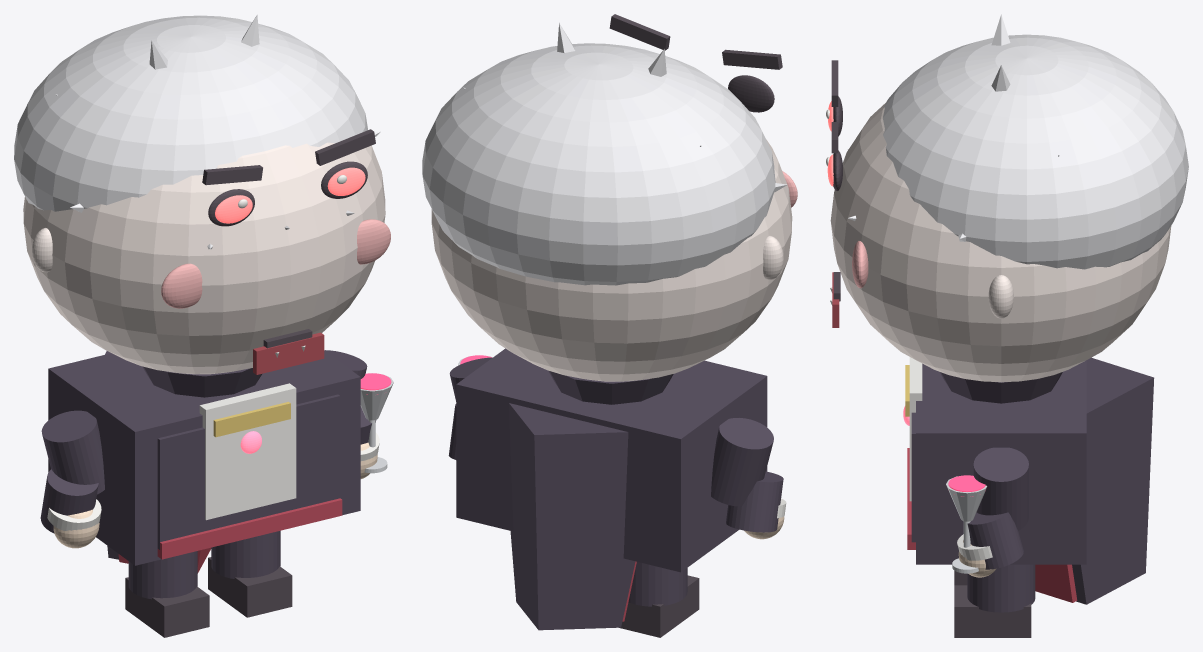
File: vampire.glb
3 views of the same model, side by side, from view 1: azimuth 30°, elevation 25°; view 2: azimuth 150°, elevation 25°; view 3: azimuth 270°, elevation 25° (orthographic).
Parts seen in each view (by area): view 1: Head, HairCap, Coat, CoatFront, ShirtFront, UpperArm_L, CoatTrim, Shoe_R, Shoe_L, Leg_L, Leg_R, Collar (+15 smaller); view 2: HairCap, Coat, Head, Cape, UpperArm_L, Collar, Forearm_L, Shoe_L, Leg_L, EyeSocket_L, Brow_R, Brow_L (+2 smaller); view 3: HairCap, Head, Coat, Cape, UpperArm_R, Leg_R, Shoe_R, Forearm_R, Collar, CapeLining, ShirtFront, Ear_R (+3 smaller).
Boxes of the visible parts, box(x1,y1,x2,y2) form: Head: box(23, 142, 385, 374); HairCap: box(14, 15, 367, 211); Coat: box(48, 351, 360, 565); CoatFront: box(157, 394, 340, 549); ShirtFront: box(199, 383, 296, 520); UpperArm_L: box(41, 410, 104, 494); CoatTrim: box(157, 498, 342, 559); Shoe_R: box(208, 557, 292, 617); Shoe_L: box(125, 577, 209, 637); Leg_L: box(128, 551, 197, 599); Leg_R: box(211, 530, 280, 578); Collar: box(142, 366, 261, 397); HairCap: box(422, 43, 775, 285); Coat: box(456, 348, 767, 572); Head: box(431, 139, 792, 381); Cape: box(509, 403, 635, 630); UpperArm_L: box(711, 418, 773, 506); Collar: box(548, 370, 673, 404); Forearm_L: box(726, 471, 783, 532); Shoe_L: box(619, 575, 699, 637); Leg_L: box(628, 562, 687, 606); EyeSocket_L: box(728, 75, 774, 112); Brow_R: box(609, 14, 670, 50); Brow_L: box(722, 49, 782, 69); HairCap: box(883, 34, 1188, 269); Head: box(830, 102, 1171, 382); Coat: box(916, 360, 1086, 564); Cape: box(1072, 357, 1154, 604); UpperArm_R: box(973, 447, 1028, 530); Leg_R: box(967, 564, 1035, 612); Shoe_R: box(954, 585, 1031, 637); Forearm_R: box(962, 512, 1023, 569); Collar: box(940, 372, 1062, 403); CapeLining: box(1035, 564, 1077, 602); ShirtFront: box(909, 357, 922, 501); Ear_R: box(988, 275, 1013, 318).
Bounding box in the file's own units: 1.22 × 1.97 × 1.14.
